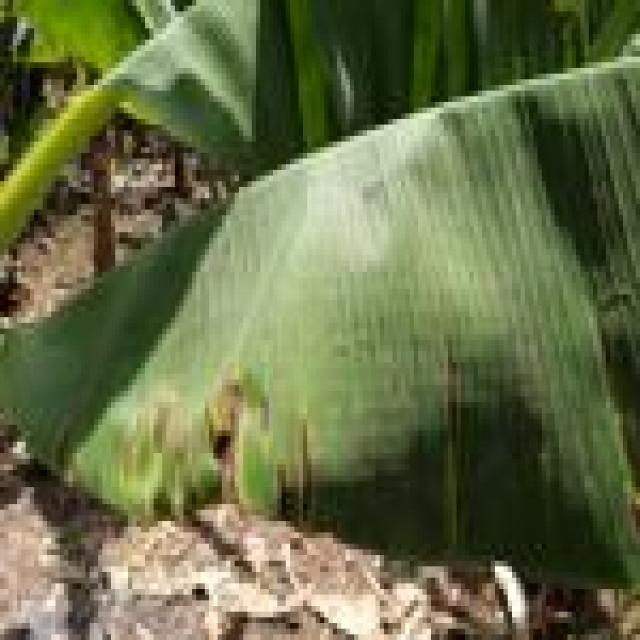Early_rust: (32, 112, 640, 612)
